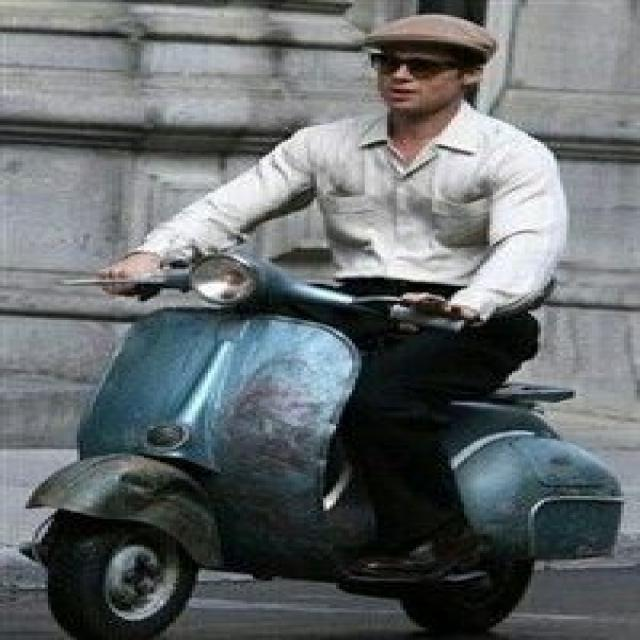Not Wearing Helmet: (325, 7, 616, 159)
